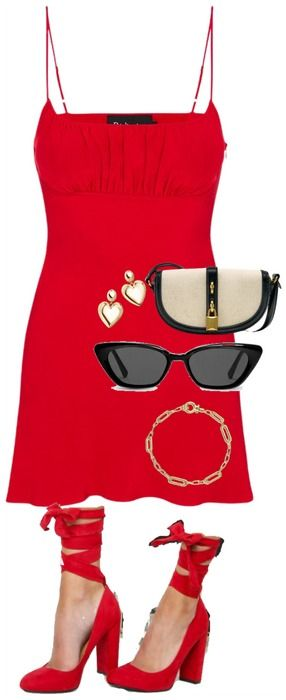аксесуары: (93, 337, 278, 393), (145, 406, 232, 482), (96, 269, 152, 329)
платье: (7, 7, 240, 502)
сумка: (142, 259, 286, 340)
туфли: (14, 497, 226, 693)
